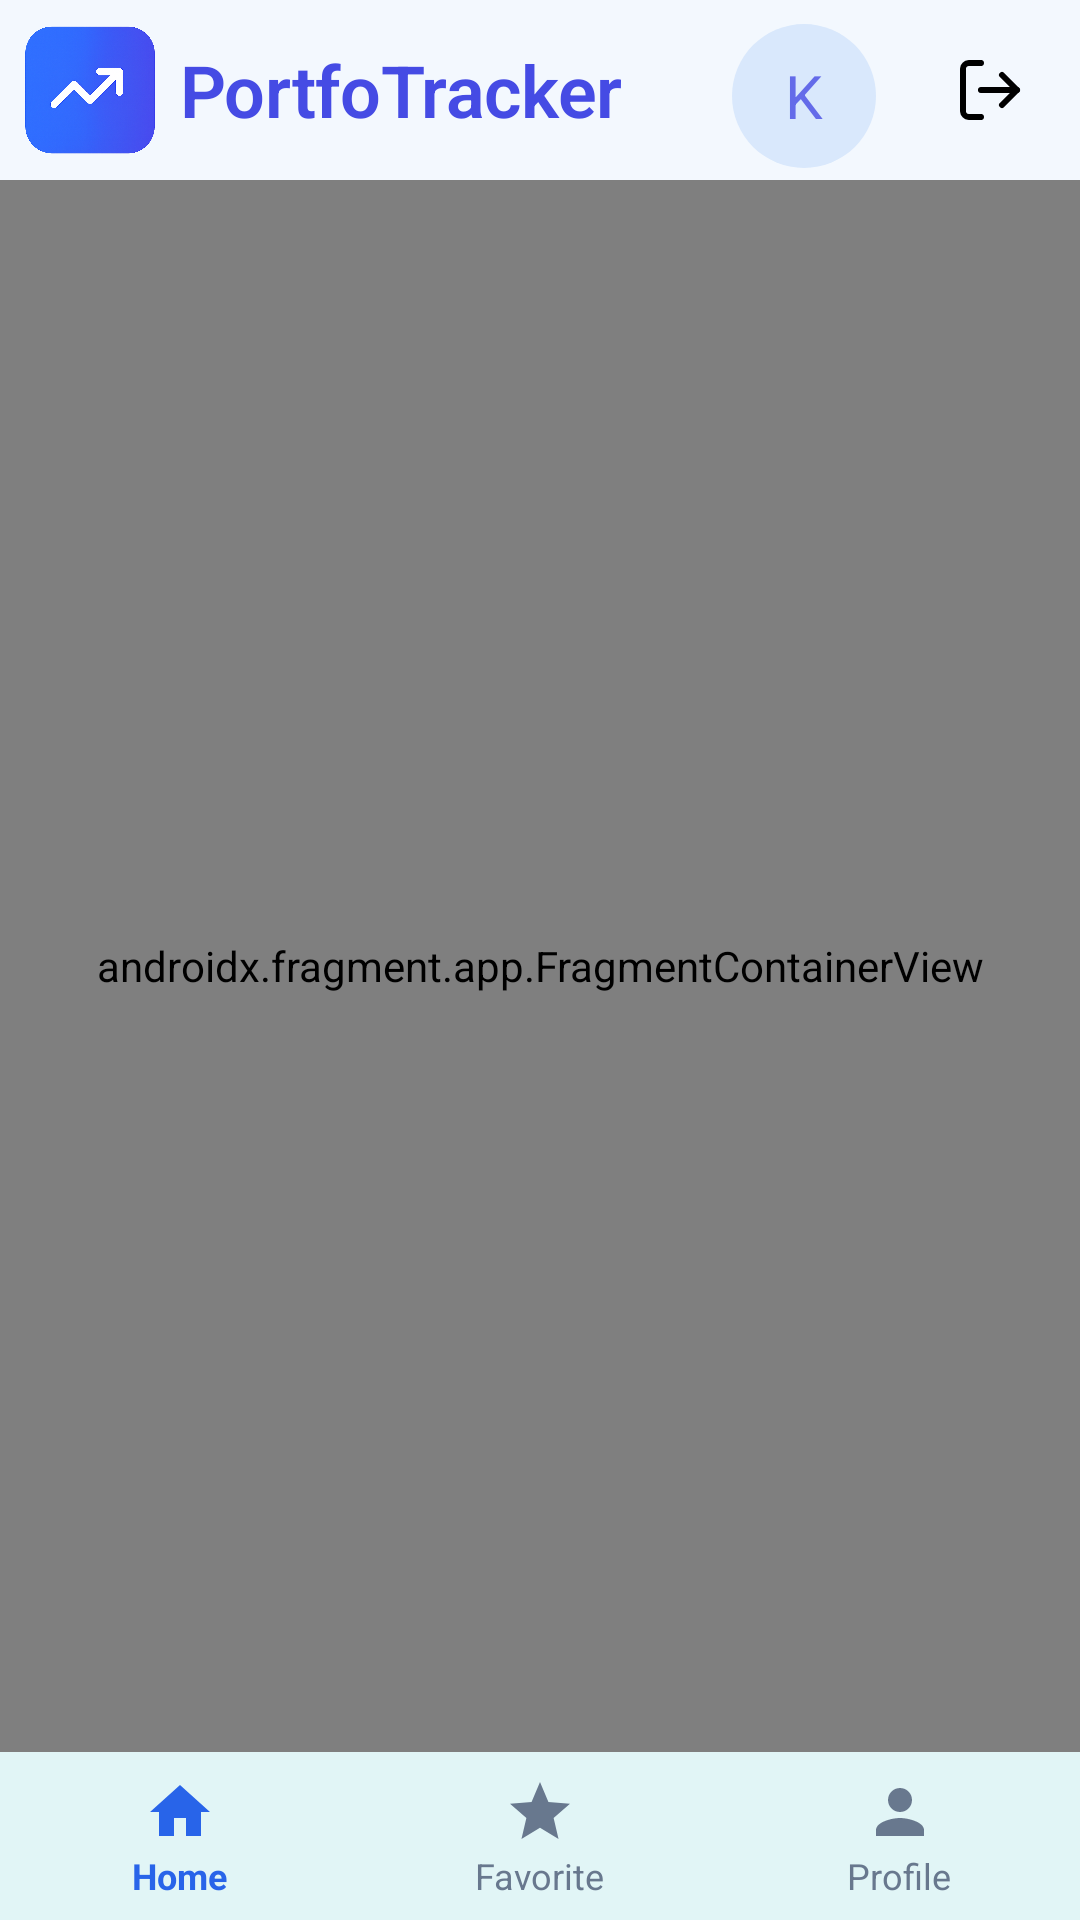

Screen size 1080×1920. Icon name, then its box in pixels as (x1, y1, x2, y2):
log out: (960, 60, 1020, 120)
